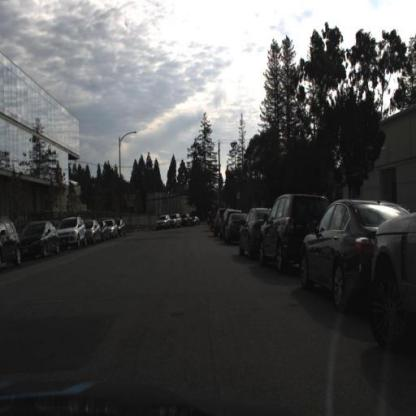car: (298, 196, 416, 313), (256, 191, 300, 270), (20, 219, 60, 260), (22, 219, 60, 260), (234, 204, 262, 257), (0, 215, 22, 269), (61, 215, 88, 251), (224, 212, 239, 249), (86, 215, 102, 248), (84, 219, 101, 247), (152, 212, 171, 230), (104, 218, 118, 240), (97, 217, 109, 240), (168, 209, 182, 228), (115, 216, 126, 236)
